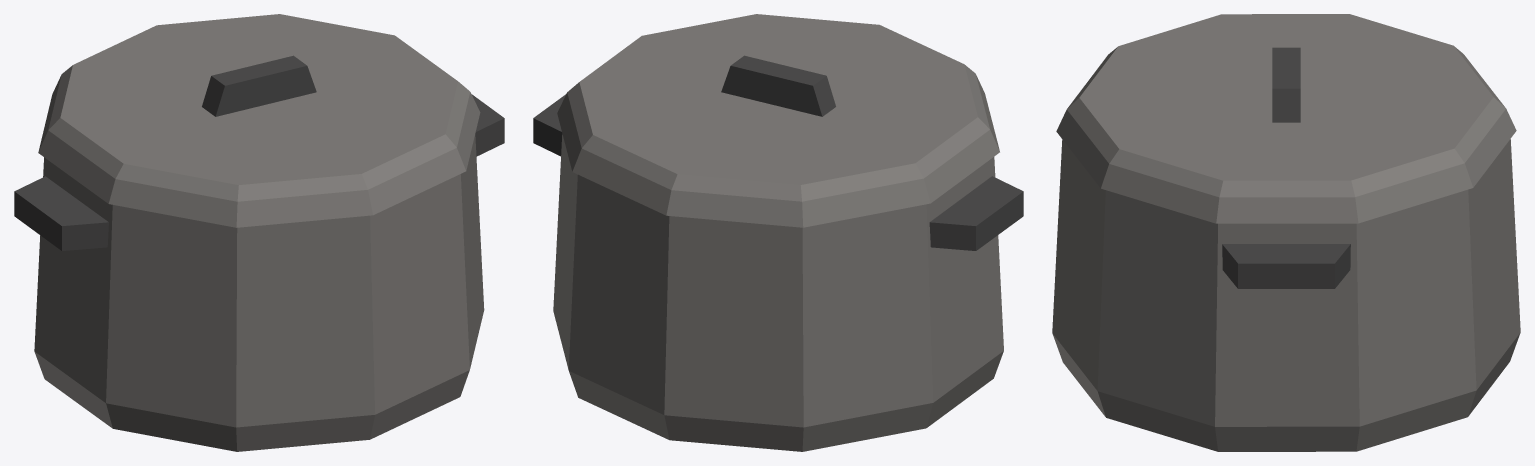
The model's file is Cooker.fbx.
3 views of the same model, side by side, from view 1: azimuth 30°, elevation 25°; view 2: azimuth 150°, elevation 25°; view 3: azimuth 270°, elevation 25° (orthographic).
Parts seen in each view (by area): view 1: polySurface2348; view 2: polySurface2348; view 3: polySurface2348.
Boxes of the visible parts, <box> form: polySurface2348: <box>14,14,504,451</box>; polySurface2348: <box>533,14,1023,451</box>; polySurface2348: <box>1052,14,1520,451</box>.
Bounding box in the file's own units: 0.4652 × 0.2901 × 0.419.
Materials: 1 (1 with a texture image).
